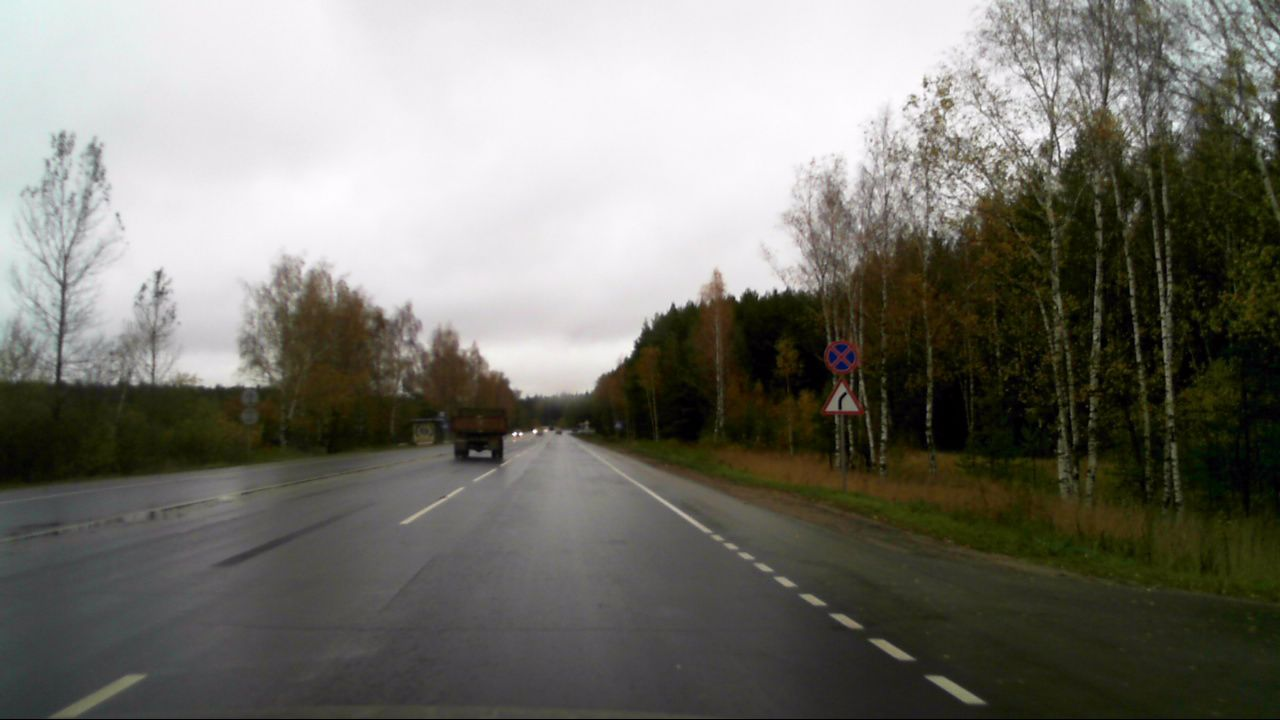No Parking: (822, 337, 861, 375)
